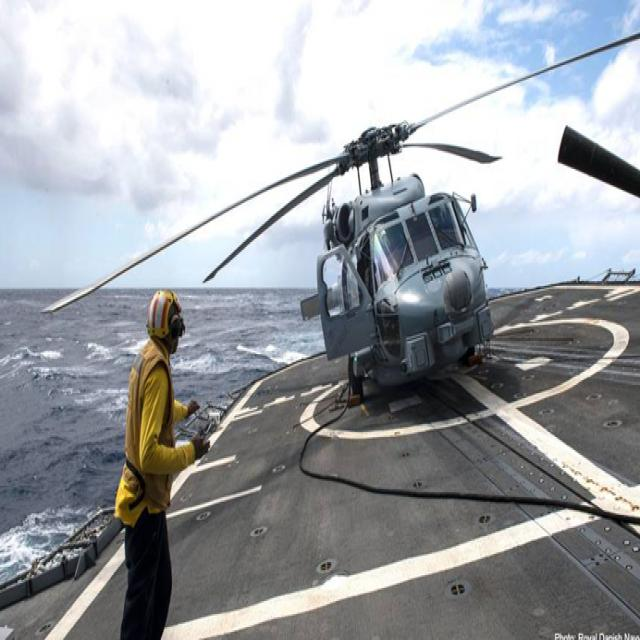helicopter: (42, 18, 640, 449)
